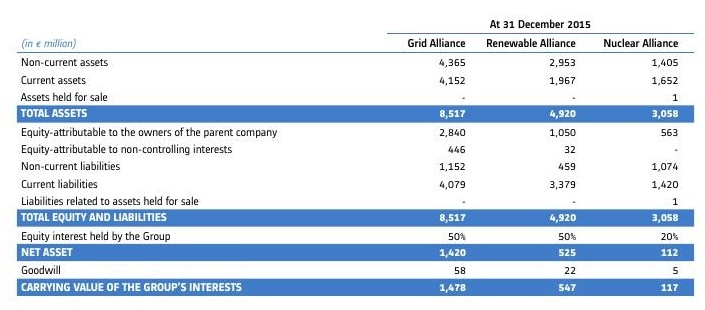table: (0, 0, 705, 310)
